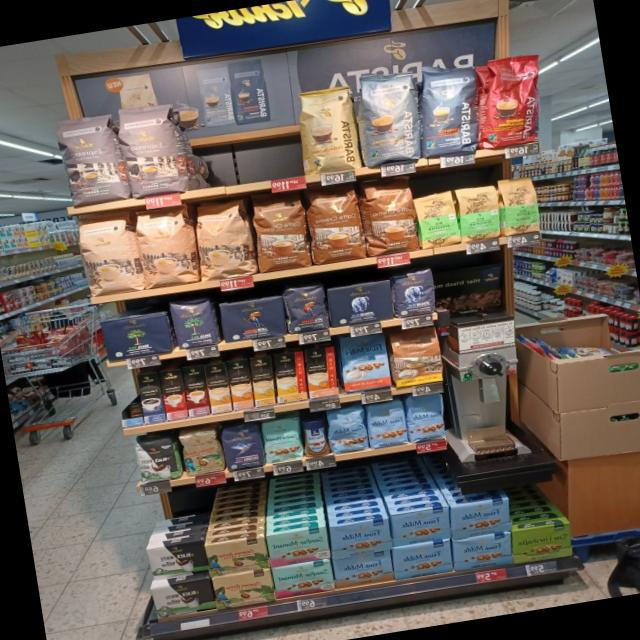AB Bohne: (388, 267, 442, 320)
AB Gemahlen: (325, 278, 396, 328)
Athiopien Bohne: (496, 174, 544, 237)
Athiopien Gemahlen: (454, 184, 504, 244), (414, 189, 462, 249)
BM Bohne: (167, 294, 220, 352)
BM Gemahlen: (100, 312, 174, 362)
BW Bohne: (132, 434, 180, 486)
BW Gemahlen: (149, 577, 216, 620), (146, 538, 208, 582)
Barista CB: (290, 82, 363, 176)
Barista CC: (349, 69, 428, 168)
Barista Espresso: (410, 64, 488, 160)
Barista Kolumbien: (480, 51, 540, 151)
C Fino Bohne: (219, 421, 266, 472)
CC Mild: (190, 196, 258, 284), (132, 203, 200, 291), (74, 211, 141, 298)
CC Vollmundig: (387, 326, 445, 390)
CC Vollmundig 36 Pads: (358, 175, 422, 258), (248, 192, 312, 275), (304, 184, 366, 264)
Colombia BB Bohne: (177, 426, 226, 476)
Colombia BB Gemahlen: (204, 536, 269, 578), (211, 569, 276, 611)
Empty Shelf: (177, 90, 300, 192), (115, 376, 144, 420)
Espresso Aromatisch: (116, 100, 192, 200), (55, 112, 127, 208)
FM 36 Pads: (338, 332, 394, 394)
FM Bohne: (403, 392, 450, 445), (324, 405, 371, 456), (363, 398, 409, 450)
FM Gemahlen: (448, 496, 514, 540), (390, 538, 456, 582), (388, 504, 454, 547), (327, 518, 394, 560), (451, 531, 514, 573), (331, 550, 395, 590)
FM Instant: (300, 416, 330, 458)
Herzhatfe Mundig: (510, 522, 574, 564)
LG Bohne: (280, 281, 332, 336)
LG Gemahlen: (217, 295, 289, 346)
SM Bohne: (260, 414, 308, 465)
SM Gemahlen: (266, 526, 330, 568), (271, 559, 335, 600)
Simo CCMild: (274, 351, 307, 403)
Simo CCMild bigpack: (249, 355, 278, 408)
Simo CCVollmundig: (306, 347, 337, 398)
Simo CCVollmundig bigpack: (226, 358, 254, 411)
Simo Decaff: (205, 362, 232, 413)
Simo Es Brazil: (160, 369, 188, 421)
Simo Es Caramel: (182, 364, 211, 417)
Simo Es Kraft: (137, 372, 165, 424)
